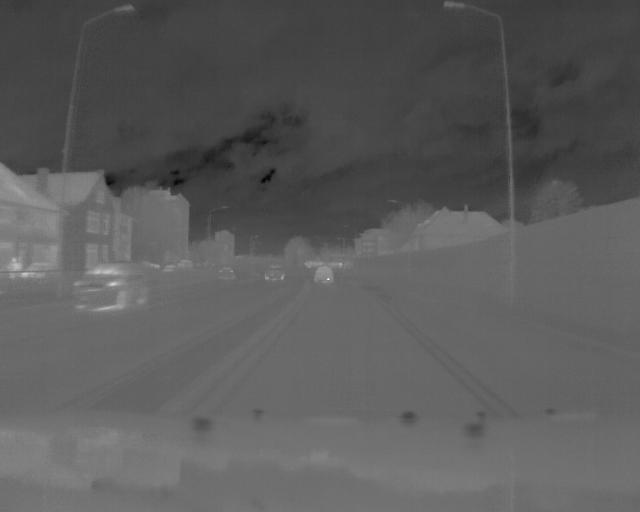car: (72, 266, 153, 311), (262, 261, 286, 283), (310, 266, 335, 284), (217, 263, 236, 281)
person: (5, 255, 22, 283)
